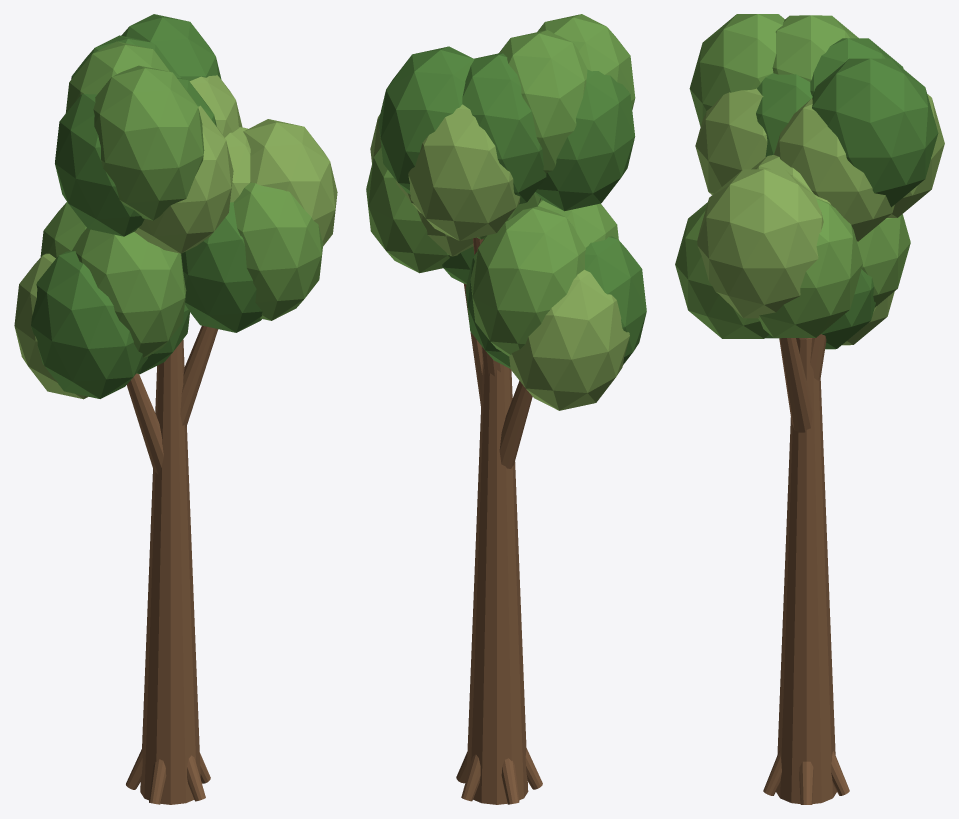
The model's file is tree.glb.
3 views of the same model, side by side, from view 1: azimuth 30°, elevation 25°; view 2: azimuth 150°, elevation 25°; view 3: azimuth 270°, elevation 25° (orthographic). The views are drawn at different scales.
Visible parts, largest first — view 1: tapered-trunk, leaf-cluster-3-1, leaf-cluster-0-3, leaf-cluster-0-4, leaf-cluster-1-3, leaf-cluster-1-2, leaf-cluster-3-0, leaf-cluster-1-4, leaf-cluster-3-2, leaf-cluster-2-4, leaf-cluster-3-4, leaf-cluster-0-2 (+8 smaller); view 2: tapered-trunk, leaf-cluster-0-1, leaf-cluster-0-2, leaf-cluster-2-0, leaf-cluster-3-0, leaf-cluster-2-4, leaf-cluster-3-4, leaf-cluster-2-1, leaf-cluster-1-0, leaf-cluster-0-3, leaf-cluster-3-1, leaf-cluster-0-4 (+6 smaller); view 3: tapered-trunk, leaf-cluster-1-4, leaf-cluster-2-4, leaf-cluster-2-3, leaf-cluster-1-0, leaf-cluster-3-1, leaf-cluster-3-2, leaf-cluster-1-3, leaf-cluster-3-4, leaf-cluster-0-1, leaf-cluster-3-3, branch-1 (+7 smaller).
Part boxes in pixels (box(x1,y1,x2,y2)): tapered-trunk: box(140, 339, 200, 804); leaf-cluster-3-1: box(93, 65, 204, 220); leaf-cluster-0-3: box(31, 250, 147, 398); leaf-cluster-0-4: box(72, 228, 186, 357); leaf-cluster-1-3: box(233, 182, 323, 320); leaf-cluster-1-2: box(181, 202, 262, 332); leaf-cluster-3-0: box(55, 94, 144, 236); leaf-cluster-1-4: box(243, 119, 337, 246); leaf-cluster-3-2: box(134, 105, 233, 253); leaf-cluster-2-4: box(121, 14, 221, 81); leaf-cluster-3-4: box(66, 41, 170, 112); leaf-cluster-0-2: box(14, 253, 88, 399); tapered-trunk: box(466, 364, 528, 804); leaf-cluster-0-1: box(470, 206, 585, 356); leaf-cluster-0-2: box(509, 269, 629, 410); leaf-cluster-2-0: box(408, 104, 520, 240); leaf-cluster-3-0: box(535, 69, 635, 211); leaf-cluster-2-4: box(378, 46, 474, 193); leaf-cluster-3-4: box(499, 30, 587, 173); leaf-cluster-2-1: box(462, 53, 546, 204); leaf-cluster-1-0: box(366, 147, 450, 273); leaf-cluster-0-3: box(584, 236, 646, 364); leaf-cluster-3-1: box(537, 14, 635, 109); leaf-cluster-0-4: box(538, 199, 618, 247); tapered-trunk: box(776, 338, 836, 803); leaf-cluster-1-4: box(697, 169, 823, 318); leaf-cluster-2-4: box(812, 58, 938, 207); leaf-cluster-2-3: box(774, 98, 894, 241); leaf-cluster-1-0: box(758, 198, 862, 337); leaf-cluster-3-1: box(689, 14, 784, 126); leaf-cluster-3-2: box(695, 88, 767, 194); leaf-cluster-1-3: box(675, 202, 769, 338); leaf-cluster-3-4: box(772, 15, 858, 81); leaf-cluster-0-1: box(857, 214, 910, 307); leaf-cluster-3-3: box(756, 73, 812, 156); branch-1: box(779, 338, 812, 432).
Bounding box in the file's own units: 1.32 × 3.55 × 1.15.
